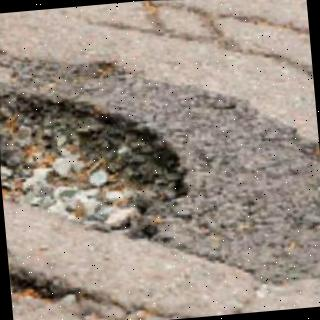pothole: (0, 93, 189, 245), (9, 267, 182, 320)
